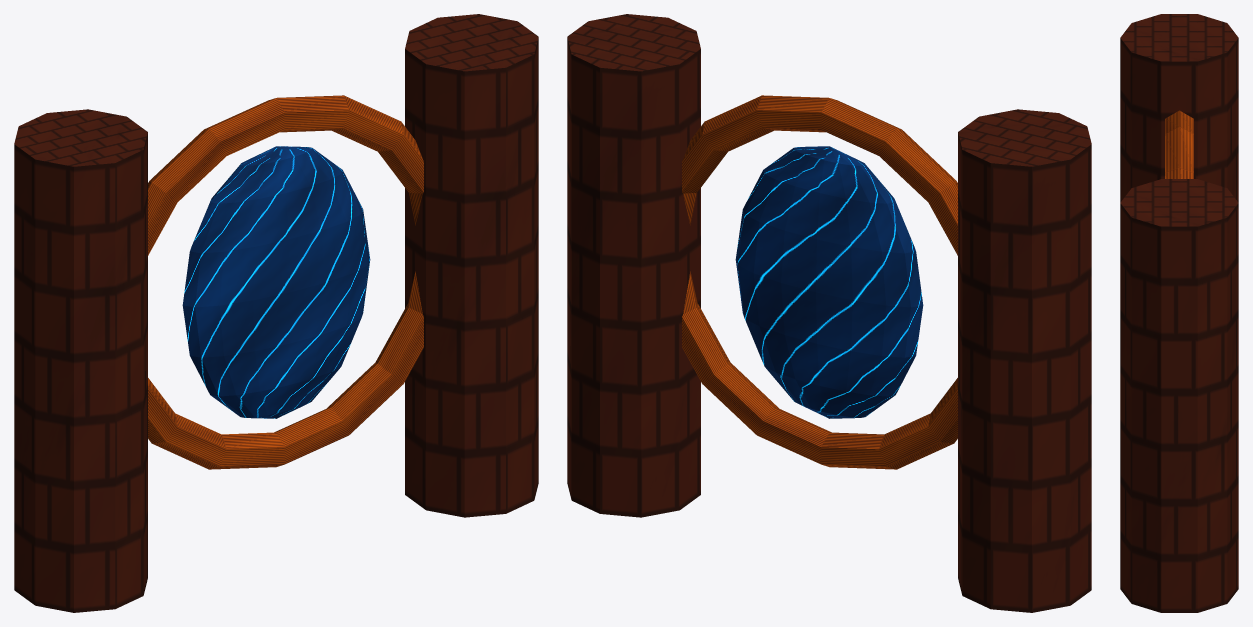
File: SM_FC_ElementalExitGate.glb
3 renders of one model, left to right at view 1: azimuth 30°, elevation 25°; view 2: azimuth 150°, elevation 25°; view 3: azimuth 270°, elevation 25°, orthographic. The views are drawn at different scales.
Parts seen in each view (by area): view 1: SM_FC_ElementalExitGate; view 2: SM_FC_ElementalExitGate; view 3: SM_FC_ElementalExitGate.
Part boxes in pixels (x1=…): SM_FC_ElementalExitGate: x1=14, y1=14, x2=538, y2=612; SM_FC_ElementalExitGate: x1=567, y1=14, x2=1091, y2=612; SM_FC_ElementalExitGate: x1=1120, y1=14, x2=1238, y2=612.
Size of the model in its own units: 4.25 by 3.6 by 1.
3 materials, 3 textured.
